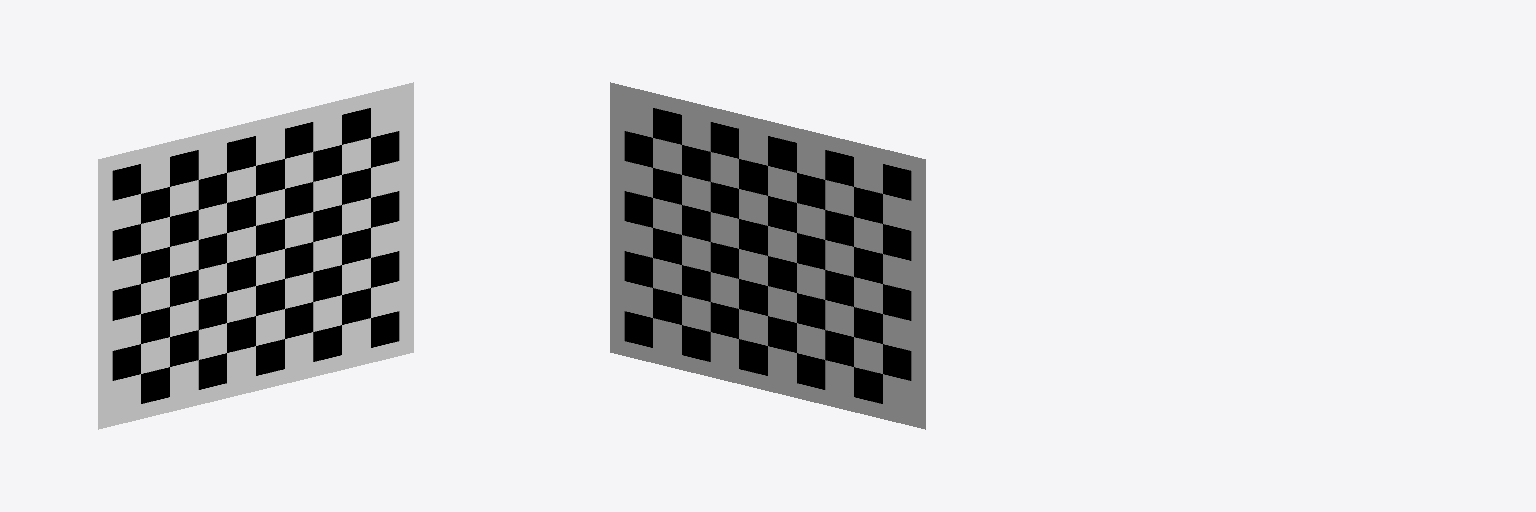
3 renders of one model, left to right at view 1: azimuth 30°, elevation 25°; view 2: azimuth 150°, elevation 25°; view 3: azimuth 270°, elevation 25°, orthographic.
Size of the model in its own units: 0.33 by 0.27 by 0.
Materials: 1 (1 with a texture image).